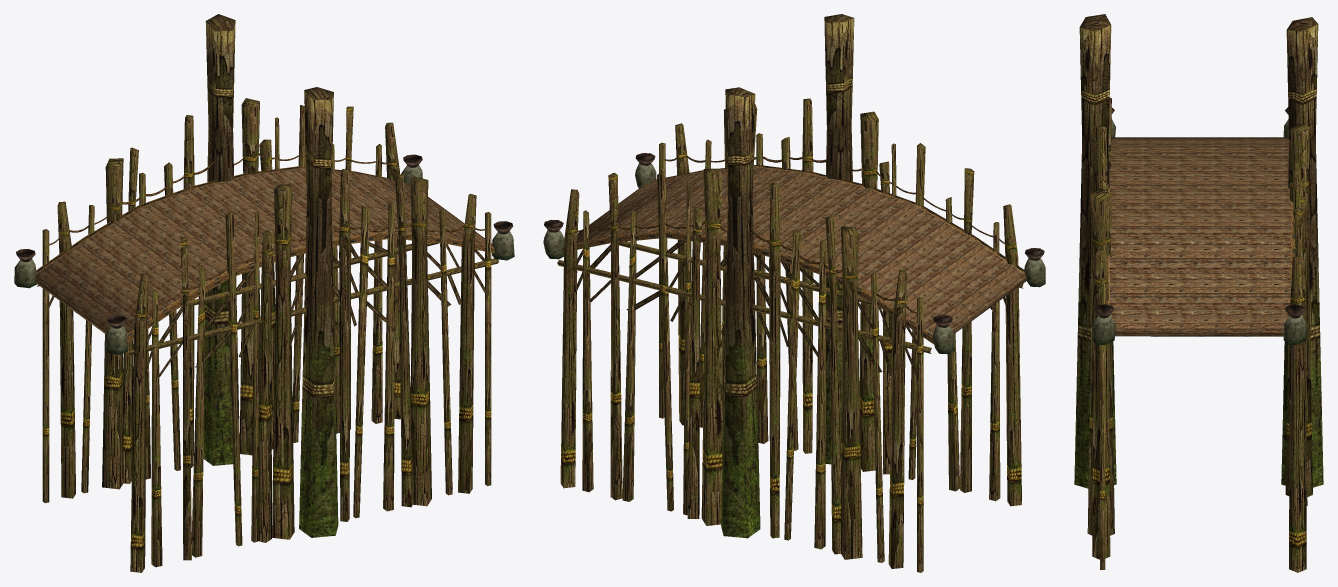
File: cj_bridgetree.glb
3 views of the same model, side by side, from view 1: azimuth 30°, elevation 25°; view 2: azimuth 150°, elevation 25°; view 3: azimuth 270°, elevation 25° (orthographic). The views are drawn at different scales.
Visible parts, largest first — view 1: cj_bridge_stree, cj_bridge_treef, cj_bridge_btree, cj_bridge_side, cj_bridge_treea, cj_bridge_stone, cj_bridge_rope, cj_bridge_cup; view 2: cj_bridge_stree, cj_bridge_treef, cj_bridge_btree, cj_bridge_side, cj_bridge_treea, cj_bridge_stone, cj_bridge_rope, cj_bridge_cup; view 3: cj_bridge_treef, cj_bridge_stree, cj_bridge_btree, cj_bridge_stone, cj_bridge_cup, cj_bridge_side.
Part boxes in pixels (left/top/right/bottom): cj_bridge_stree: left=37, top=98, right=498, bottom=572; cj_bridge_treef: left=35, top=168, right=492, bottom=333; cj_bridge_btree: left=203, top=14, right=338, bottom=537; cj_bridge_side: left=36, top=166, right=494, bottom=342; cj_bridge_treea: left=49, top=242, right=486, bottom=376; cj_bridge_stone: left=14, top=165, right=514, bottom=354; cj_bridge_rope: left=49, top=153, right=486, bottom=314; cj_bridge_cup: left=16, top=154, right=513, bottom=328; cj_bridge_stree: left=557, top=98, right=1023, bottom=572; cj_bridge_treef: left=577, top=167, right=1026, bottom=333; cj_bridge_btree: left=721, top=14, right=854, bottom=538; cj_bridge_side: left=562, top=165, right=1024, bottom=344; cj_bridge_treea: left=577, top=240, right=1005, bottom=377; cj_bridge_stone: left=543, top=163, right=1045, bottom=354; cj_bridge_rope: left=576, top=155, right=1004, bottom=313; cj_bridge_cup: left=544, top=153, right=1044, bottom=327; cj_bridge_treef: left=1109, top=137, right=1290, bottom=336; cj_bridge_stree: left=1087, top=97, right=1312, bottom=572; cj_bridge_btree: left=1074, top=14, right=1323, bottom=488; cj_bridge_stone: left=1092, top=119, right=1307, bottom=344; cj_bridge_cup: left=1093, top=107, right=1305, bottom=318; cj_bridge_side: left=1105, top=188, right=1294, bottom=304.
Size of the model in its own units: 37.12 by 38.46 by 18.77.
8 materials, 8 textured.
